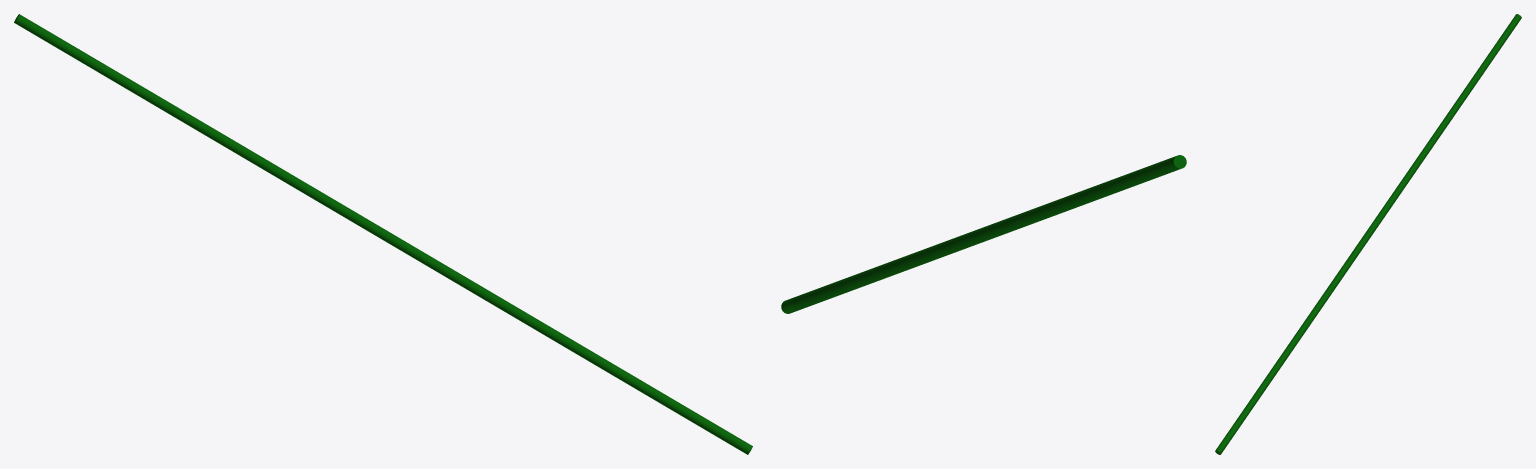
Rendered from Event_127732675_jet_2.fbx.
3 renders of one model, left to right at view 1: azimuth 30°, elevation 25°; view 2: azimuth 150°, elevation 25°; view 3: azimuth 270°, elevation 25°, orthographic. The views are drawn at different scales.
Parts seen in each view (by area): view 1: Model; view 2: Model; view 3: Model.
Part boxes in pixels (x1,y1,x2,y2): Model: [14, 14, 752, 454]; Model: [781, 155, 1186, 313]; Model: [1215, 14, 1521, 454].
Size of the model in its own units: 2.33 by 1.73 by 1.77.
